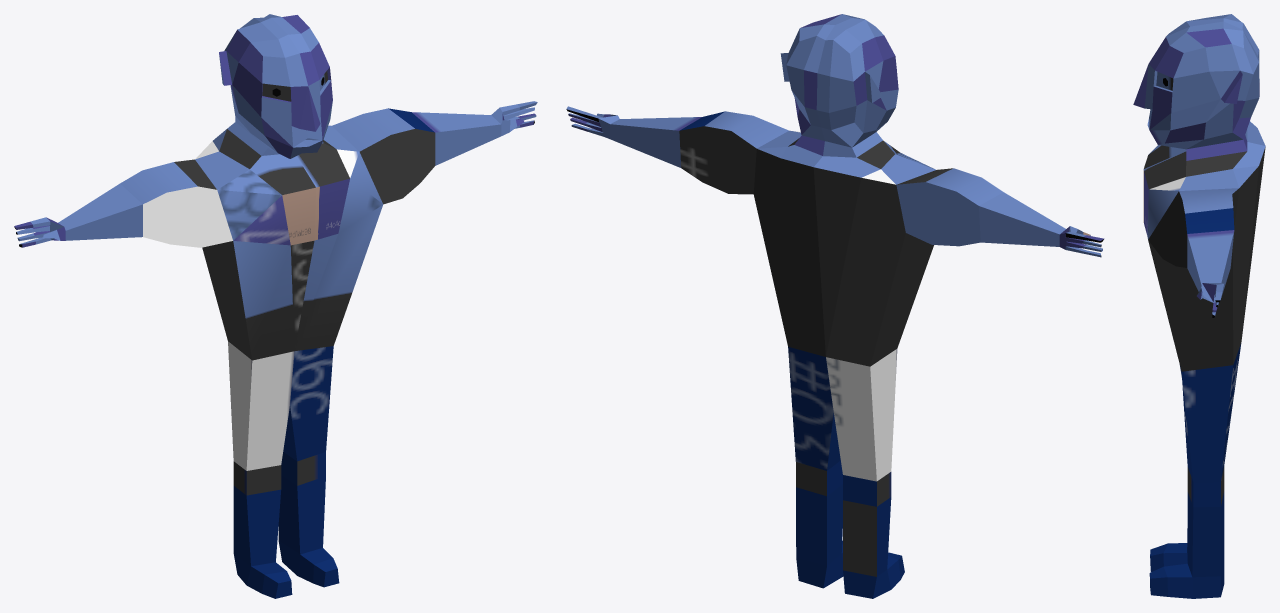
Rendered from Frank.fbx.
3 renders of one model, left to right at view 1: azimuth 30°, elevation 25°; view 2: azimuth 150°, elevation 25°; view 3: azimuth 270°, elevation 25°, orthographic. The views are drawn at different scales.
Parts seen in each view (by area): view 1: Human; view 2: Human; view 3: Human.
Boxes of the visible parts, box(x1,y1,x2,y2) form: Human: box(14, 14, 537, 598); Human: box(566, 14, 1104, 598); Human: box(1133, 14, 1265, 598).
Size of the model in its own units: 990 by 995 by 214.
